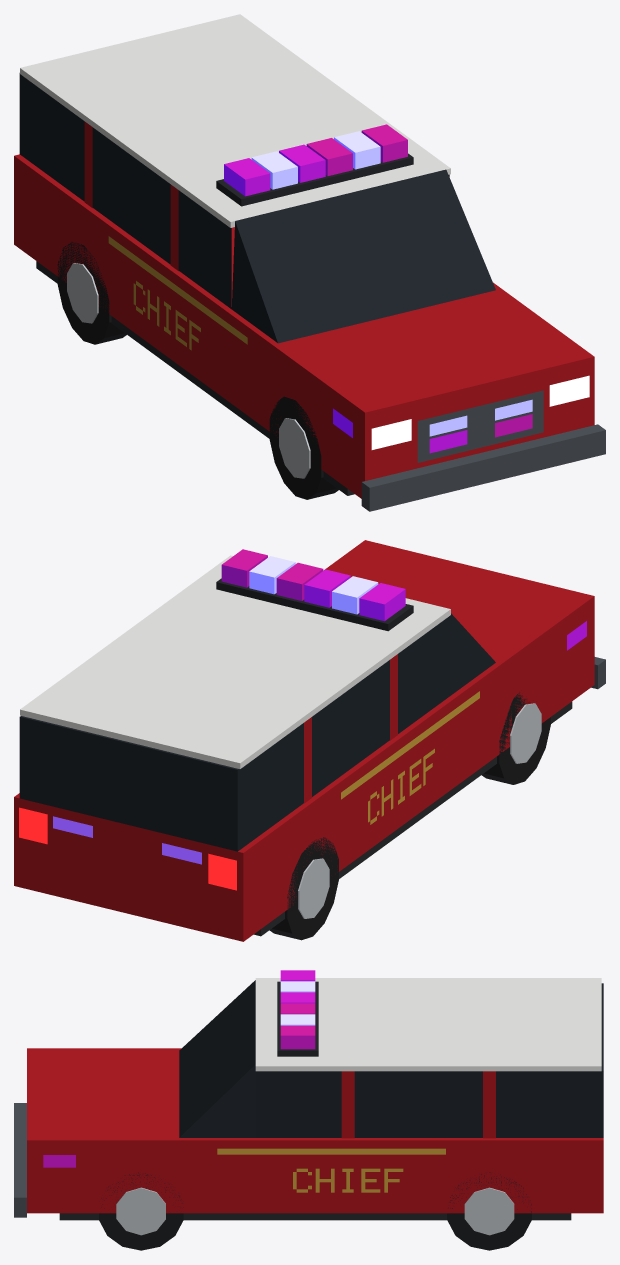
File: bfd-chief.glb
3 views of the same model, one above another, from view 1: azimuth 30°, elevation 25°; view 2: azimuth 150°, elevation 25°; view 3: azimuth 270°, elevation 25° (orthographic). The views are drawn at different scales.
Parts seen in each view (by area): view 1: bfd-chief; view 2: bfd-chief; view 3: bfd-chief.
Boxes of the visible parts, left/top/right/bottom form: bfd-chief: left=14, top=14, right=605, bottom=511; bfd-chief: left=14, top=540, right=605, bottom=941; bfd-chief: left=14, top=970, right=603, bottom=1250.
Size of the model in its own units: 2.06 by 2.05 by 5.44.
